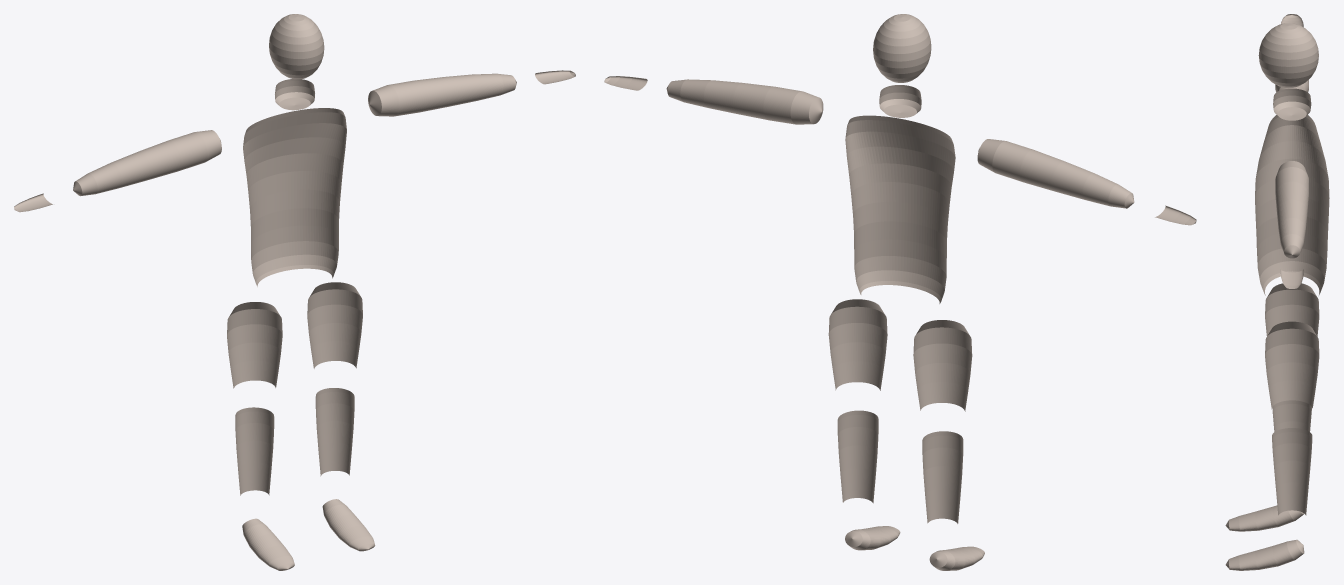
File: body_mesh.glb
The picture shows the model from 3 angles, left to right: view 1: azimuth 30°, elevation 25°; view 2: azimuth 150°, elevation 25°; view 3: azimuth 270°, elevation 25°; orthographic projection. The views are drawn at different scales.
Parts seen in each view (by area): view 1: world; view 2: world; view 3: world.
Part boxes in pixels (x1=…): world: x1=14, y1=14, x2=575, y2=570; world: x1=604, y1=14, x2=1196, y2=570; world: x1=1225, y1=14, x2=1329, y2=570.
Bounding box in the file's own units: 2.07 × 1.84 × 0.3319.
